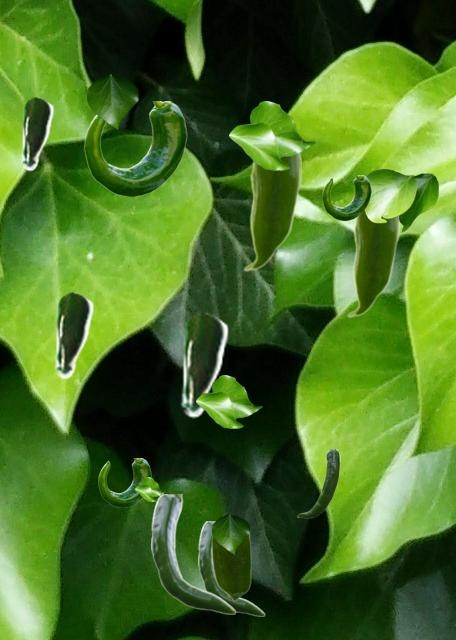green_chili: (151, 494, 235, 613), (84, 101, 186, 195), (242, 153, 300, 271), (198, 521, 264, 615), (346, 212, 398, 317), (178, 311, 228, 417), (52, 291, 93, 378), (297, 449, 339, 517), (211, 531, 250, 600), (19, 96, 53, 170), (98, 458, 150, 506), (322, 175, 370, 219)
